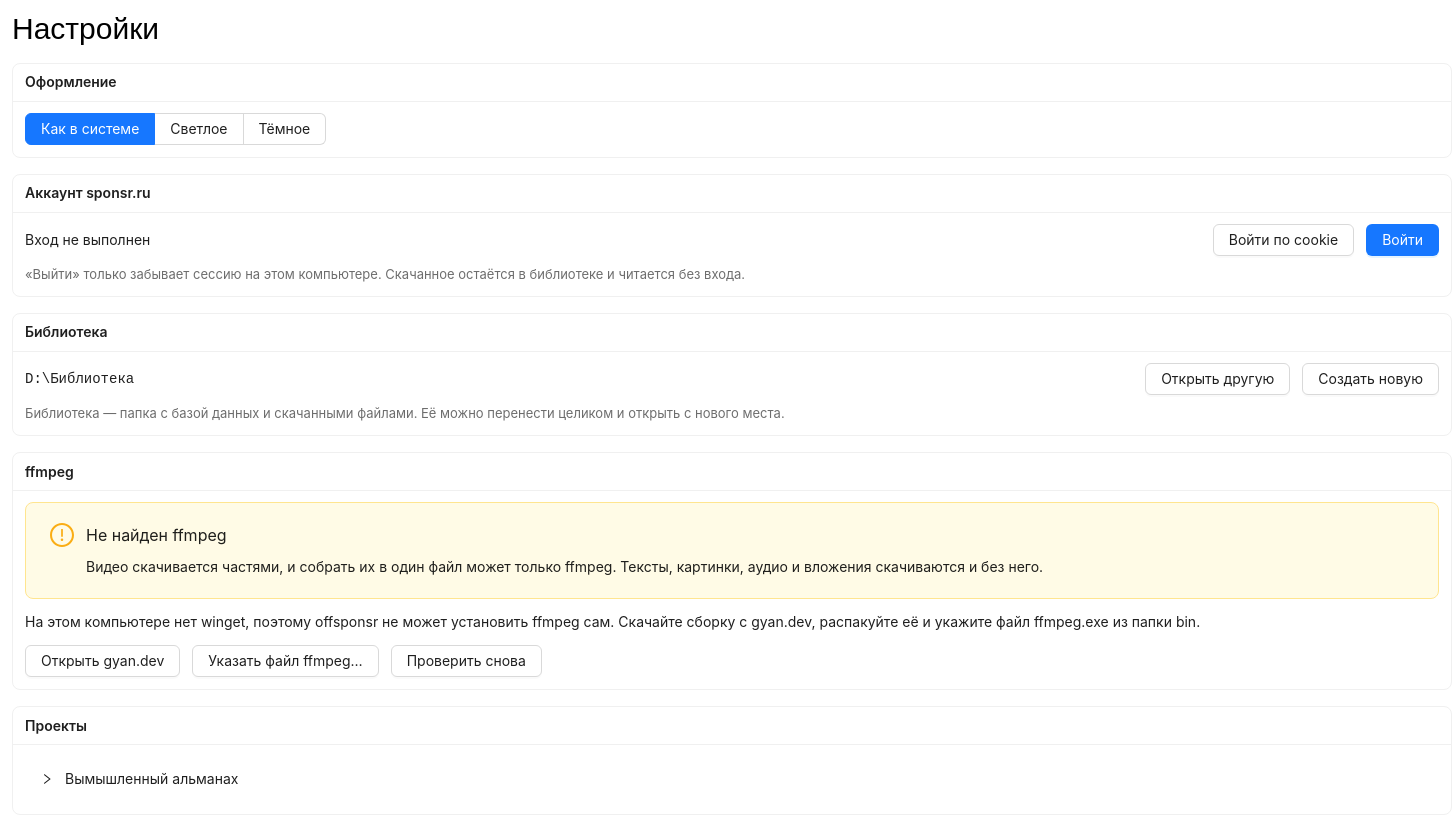
it: SettingsView › ffmpeg › looks for ffmpeg again when asked
Click the button "Проверить снова".
click(466, 662)  # box [391,646,542,678]
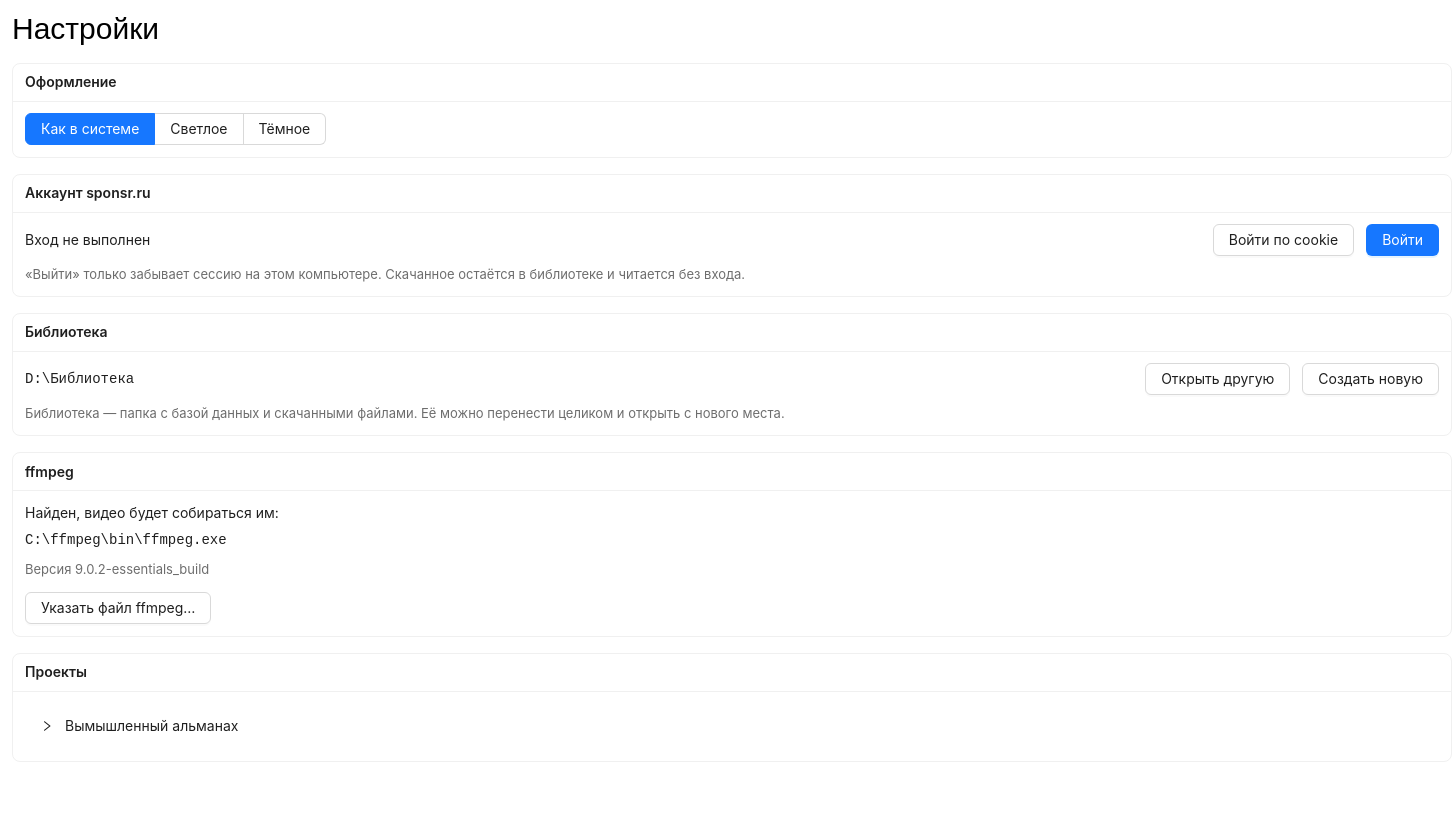
Check: the text "Найден, видео будет собираться им:" is shown, box [25,504,279,521]
